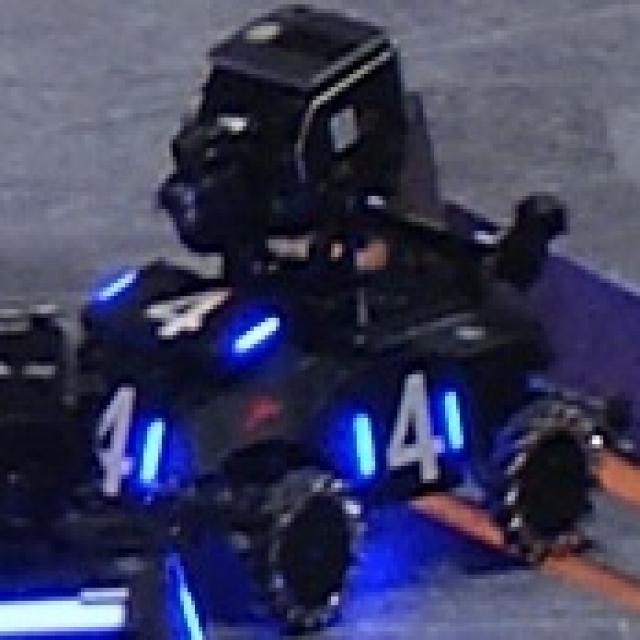B4: (96, 257, 283, 348), (353, 361, 471, 492), (77, 374, 173, 496)
